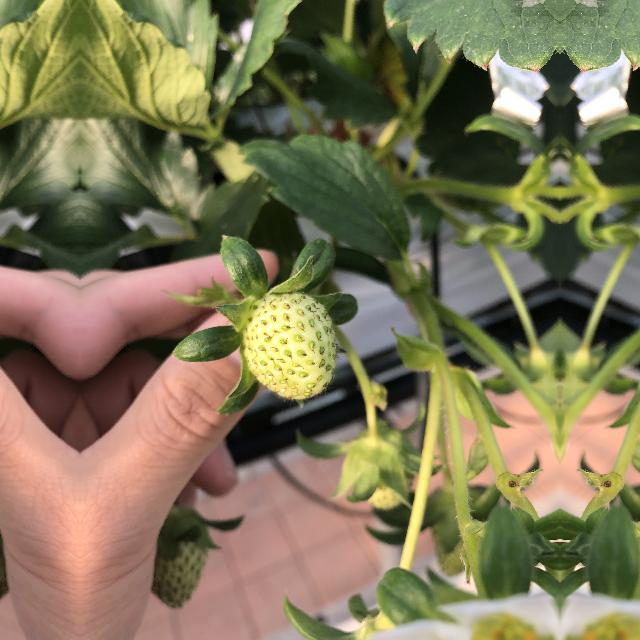Health_25: (235, 279, 345, 406)
